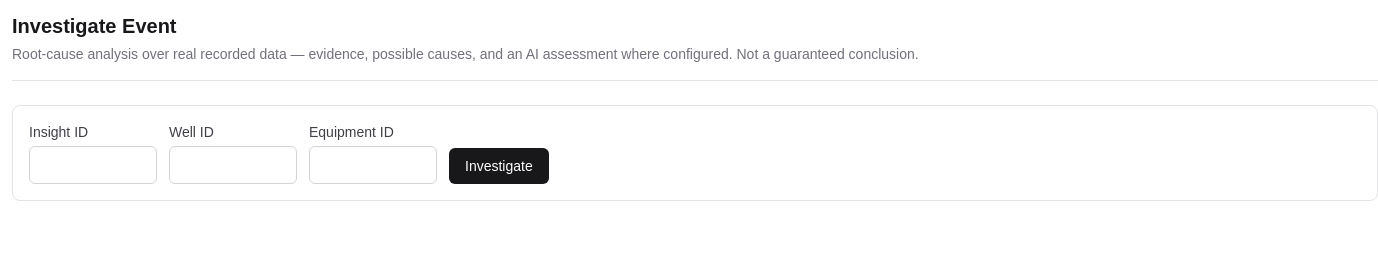
Test case: InvestigateEventPage › shows an error message when no target is entered
This screenshot has width=1378, height=260.
What coordinates should you click on to do the following:
click the button "Investigate"
I would click on:
 (499, 166)
Its box is 449,148 -> 549,184.
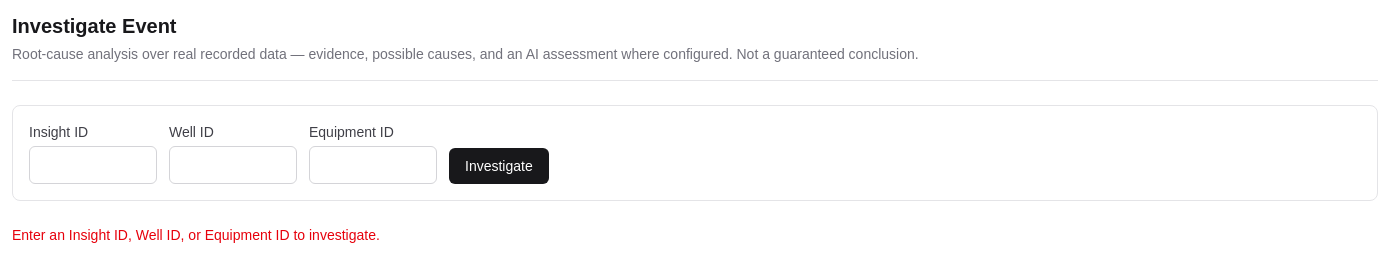
Result: the text "Enter an Insight ID, Well ID, or Equipment ID" is shown at 12,227 -> 380,243
